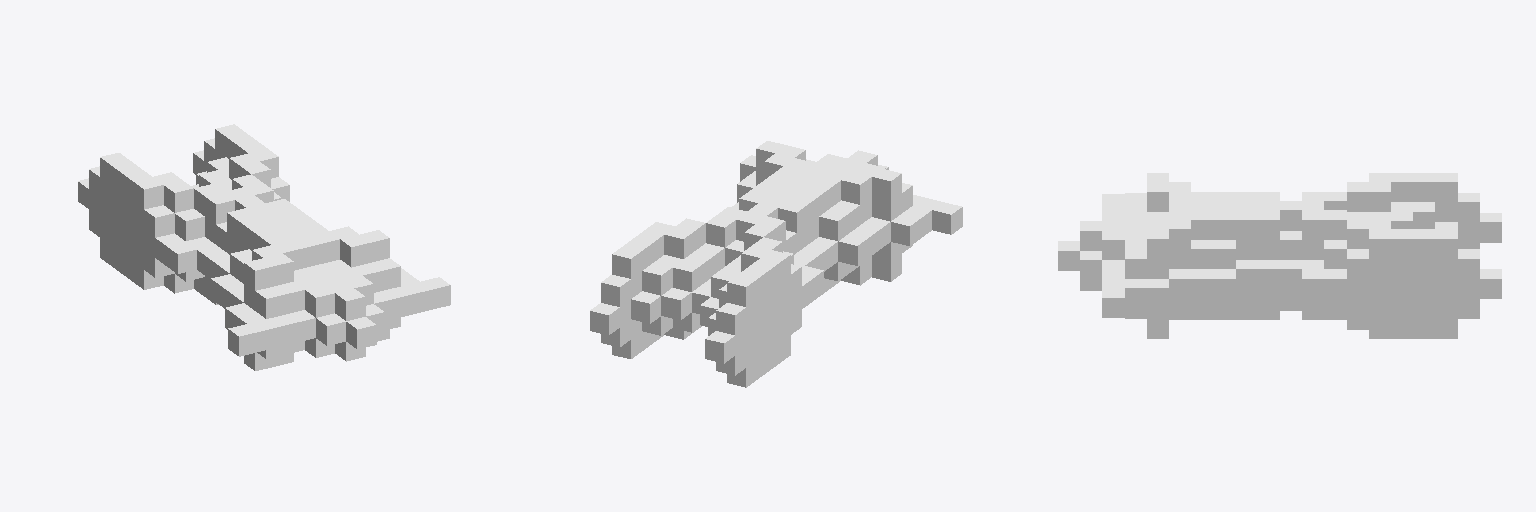
Rendered from enemy_m.obj.
The picture shows the model from 3 angles: view 1: azimuth 30°, elevation 25°; view 2: azimuth 150°, elevation 25°; view 3: azimuth 270°, elevation 25°; orthographic projection.
Visible parts, largest first — view 1: object 1; view 2: object 1; view 3: object 1.
Boxes of the visible parts, x1=… form: object 1: x1=78, y1=124, x2=450, y2=370; object 1: x1=590, y1=141, x2=962, y2=387; object 1: x1=1058, y1=173, x2=1501, y2=338.
Bounding box in the file's own units: 1.1 × 0.5 × 2.